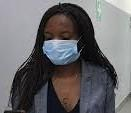Wearing Mask: (40, 16, 89, 68)
